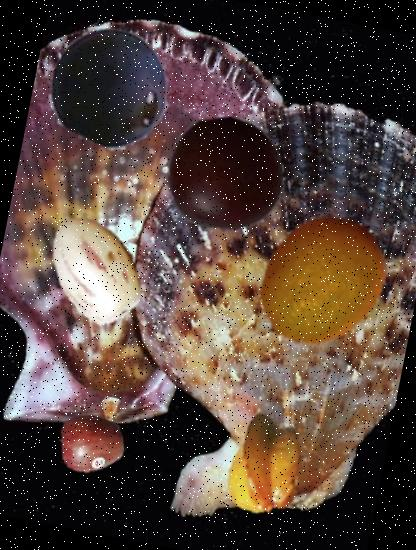Apple: (53, 406, 129, 482)
Carambula: (208, 405, 328, 525)
Cherry: (157, 105, 294, 242)
Grape: (36, 13, 183, 160)
Lemon: (236, 200, 402, 366)
Pepino: (29, 201, 164, 336)
